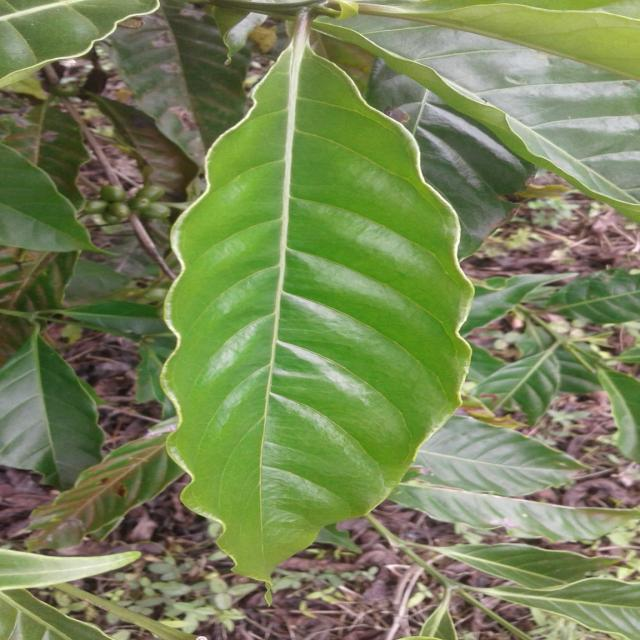Sanas: (161, 10, 474, 586)
